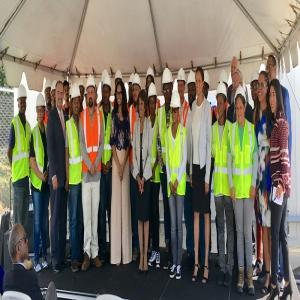none: (9, 224, 30, 266), (270, 79, 282, 114), (259, 71, 270, 101), (116, 80, 126, 109), (138, 90, 148, 119), (267, 55, 278, 81), (234, 69, 244, 93), (196, 66, 204, 95), (63, 80, 71, 104), (232, 58, 240, 80), (57, 83, 64, 108)
white: (216, 81, 228, 120), (235, 89, 248, 121), (187, 71, 197, 104), (172, 92, 182, 124), (36, 92, 46, 124), (163, 69, 172, 104), (18, 86, 28, 115), (149, 83, 158, 115), (103, 74, 112, 106), (72, 84, 81, 115), (88, 76, 96, 108), (179, 68, 187, 98), (133, 73, 141, 103), (251, 73, 259, 101), (220, 71, 230, 93), (45, 81, 53, 106), (204, 70, 211, 97), (147, 68, 155, 88), (52, 80, 58, 105), (79, 80, 85, 104), (129, 75, 134, 101), (116, 69, 123, 86)
